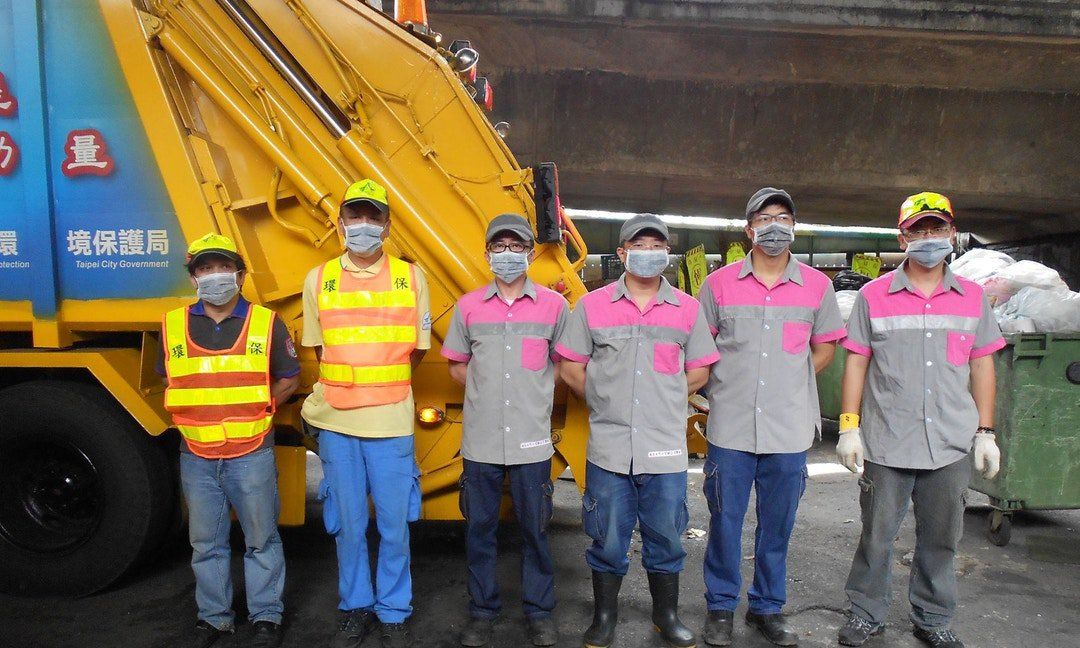mask: (344, 223, 385, 258), (197, 273, 240, 306), (753, 224, 795, 256), (905, 240, 953, 267), (489, 251, 529, 283), (626, 251, 669, 278)
